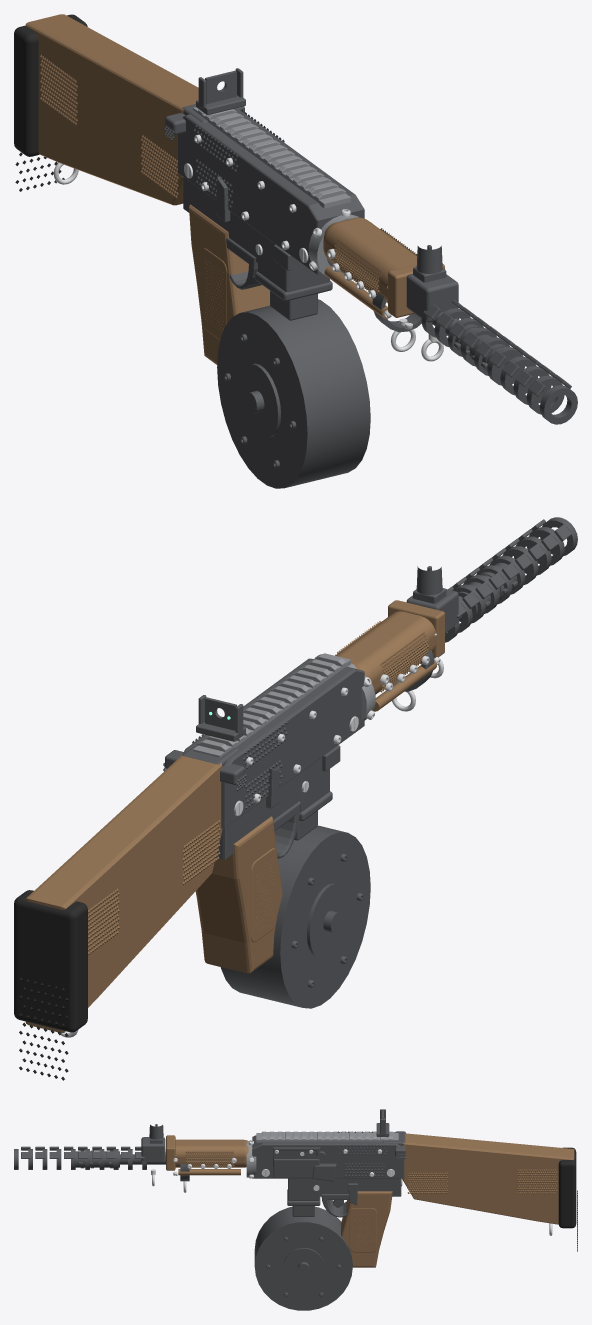
Rendered from ppsh41.glb.
The picture shows the model from 3 angles, top to bottom: view 1: azimuth 30°, elevation 25°; view 2: azimuth 150°, elevation 25°; view 3: azimuth 270°, elevation 25°; orthographic projection. The views are drawn at different scales.
Parts seen in each view (by area): view 1: drum-smg, magazine, charge; view 2: drum-smg, magazine, charge; view 3: drum-smg, magazine, charge.
Boxes of the visible parts, bbox=[...] form: drum-smg: bbox=[14, 14, 577, 424]; magazine: bbox=[217, 291, 370, 488]; charge: bbox=[164, 104, 244, 140]; drum-smg: bbox=[14, 517, 577, 1080]; magazine: bbox=[220, 810, 370, 1008]; charge: bbox=[163, 744, 246, 791]; drum-smg: bbox=[14, 1109, 577, 1267]; magazine: bbox=[254, 1206, 352, 1310]; charge: bbox=[382, 1131, 405, 1160].
Bounding box in the file's own units: 0.0672 × 0.262 × 0.7123.
